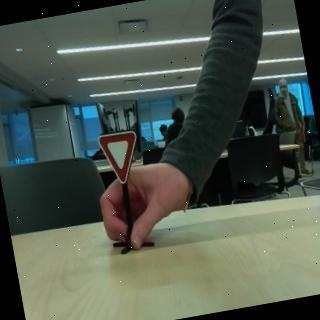sign_yield: (96, 129, 148, 192)
